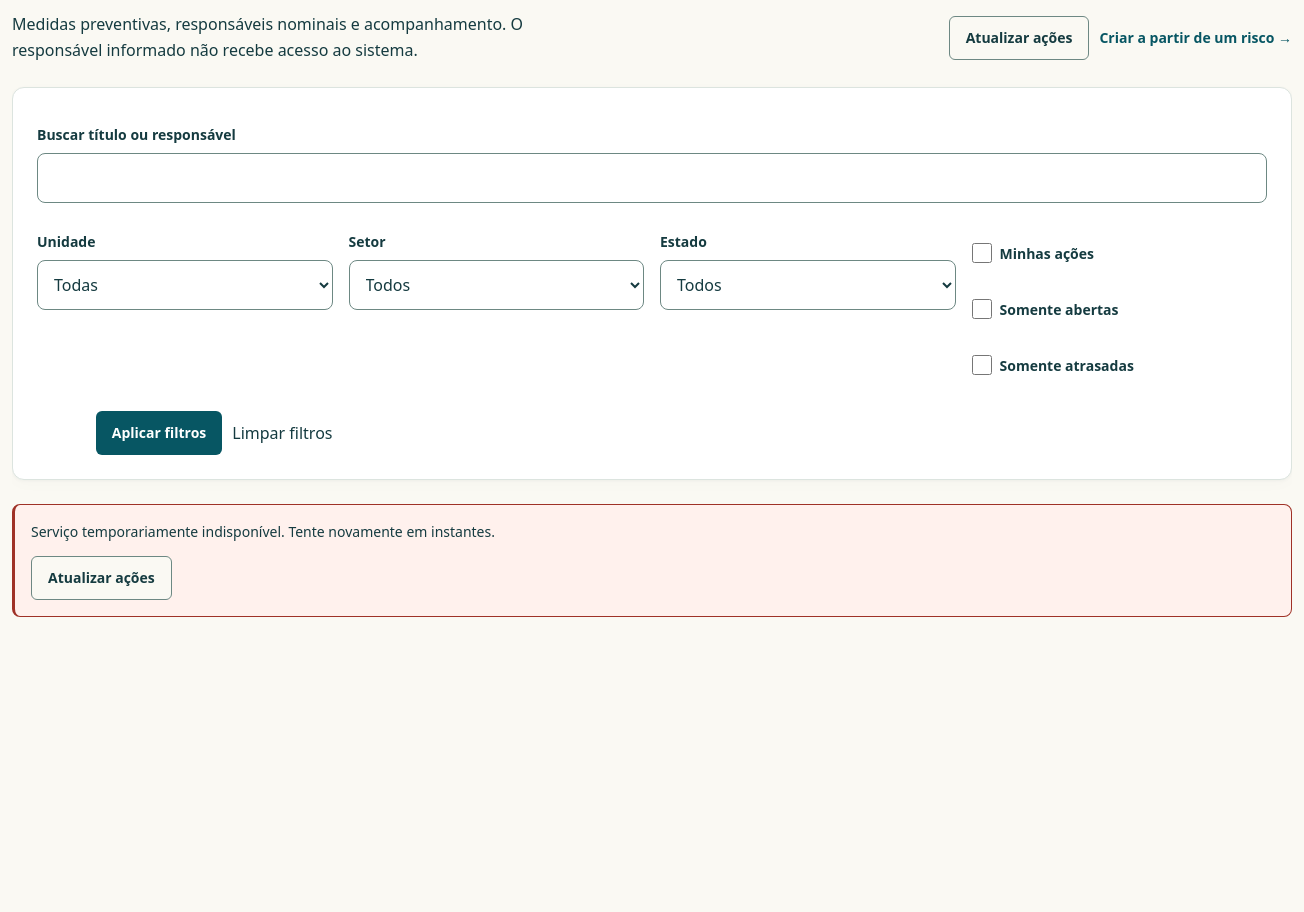
Test: permite recuperar a consulta de ações dentro da mensagem de erro
Click the 2nd button "Atualizar ações" at (101, 578), box [31, 556, 172, 600]
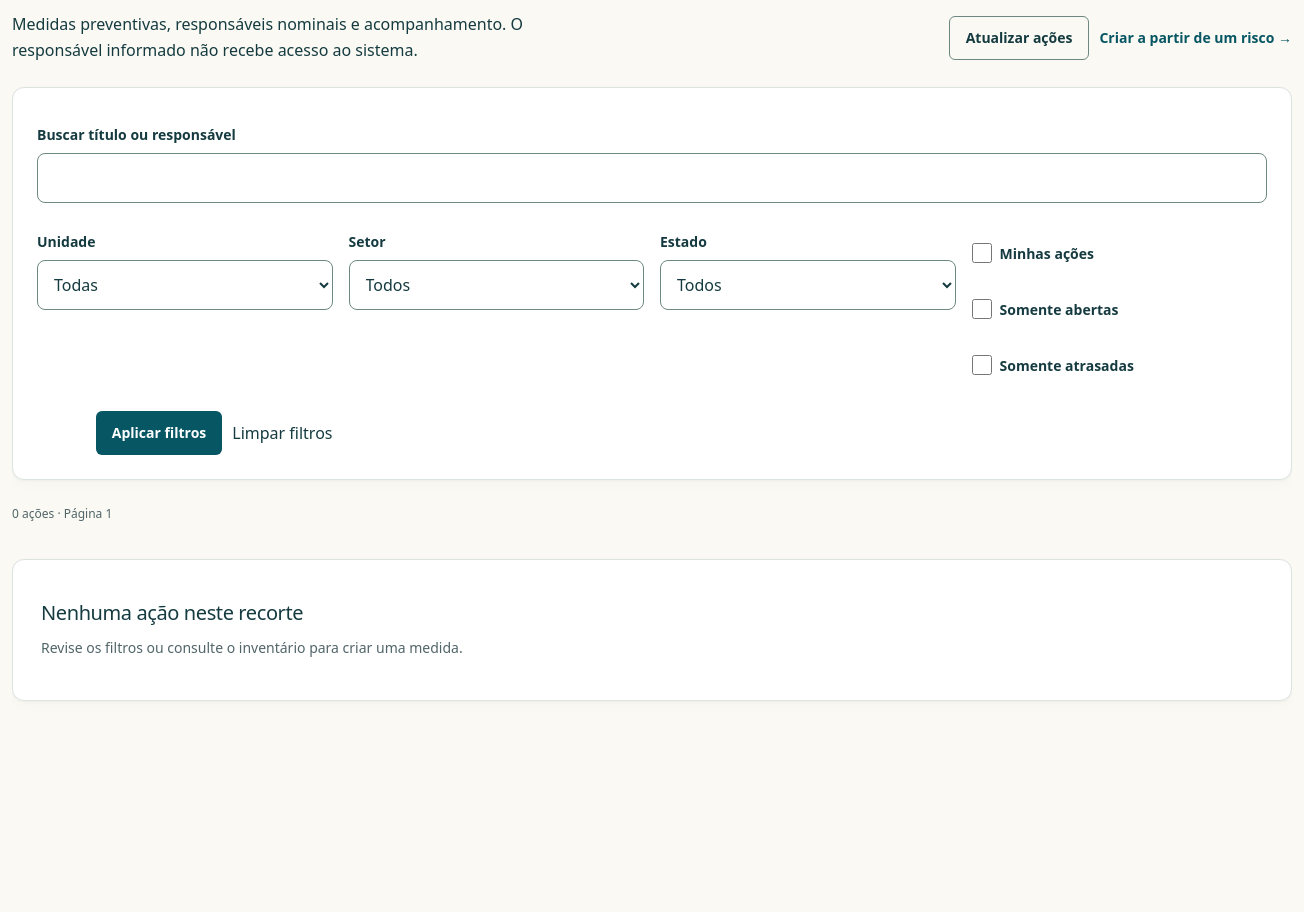
Now the heading "Nenhuma ação neste recorte" is shown, box [41, 599, 303, 626]
Now the message is gone
